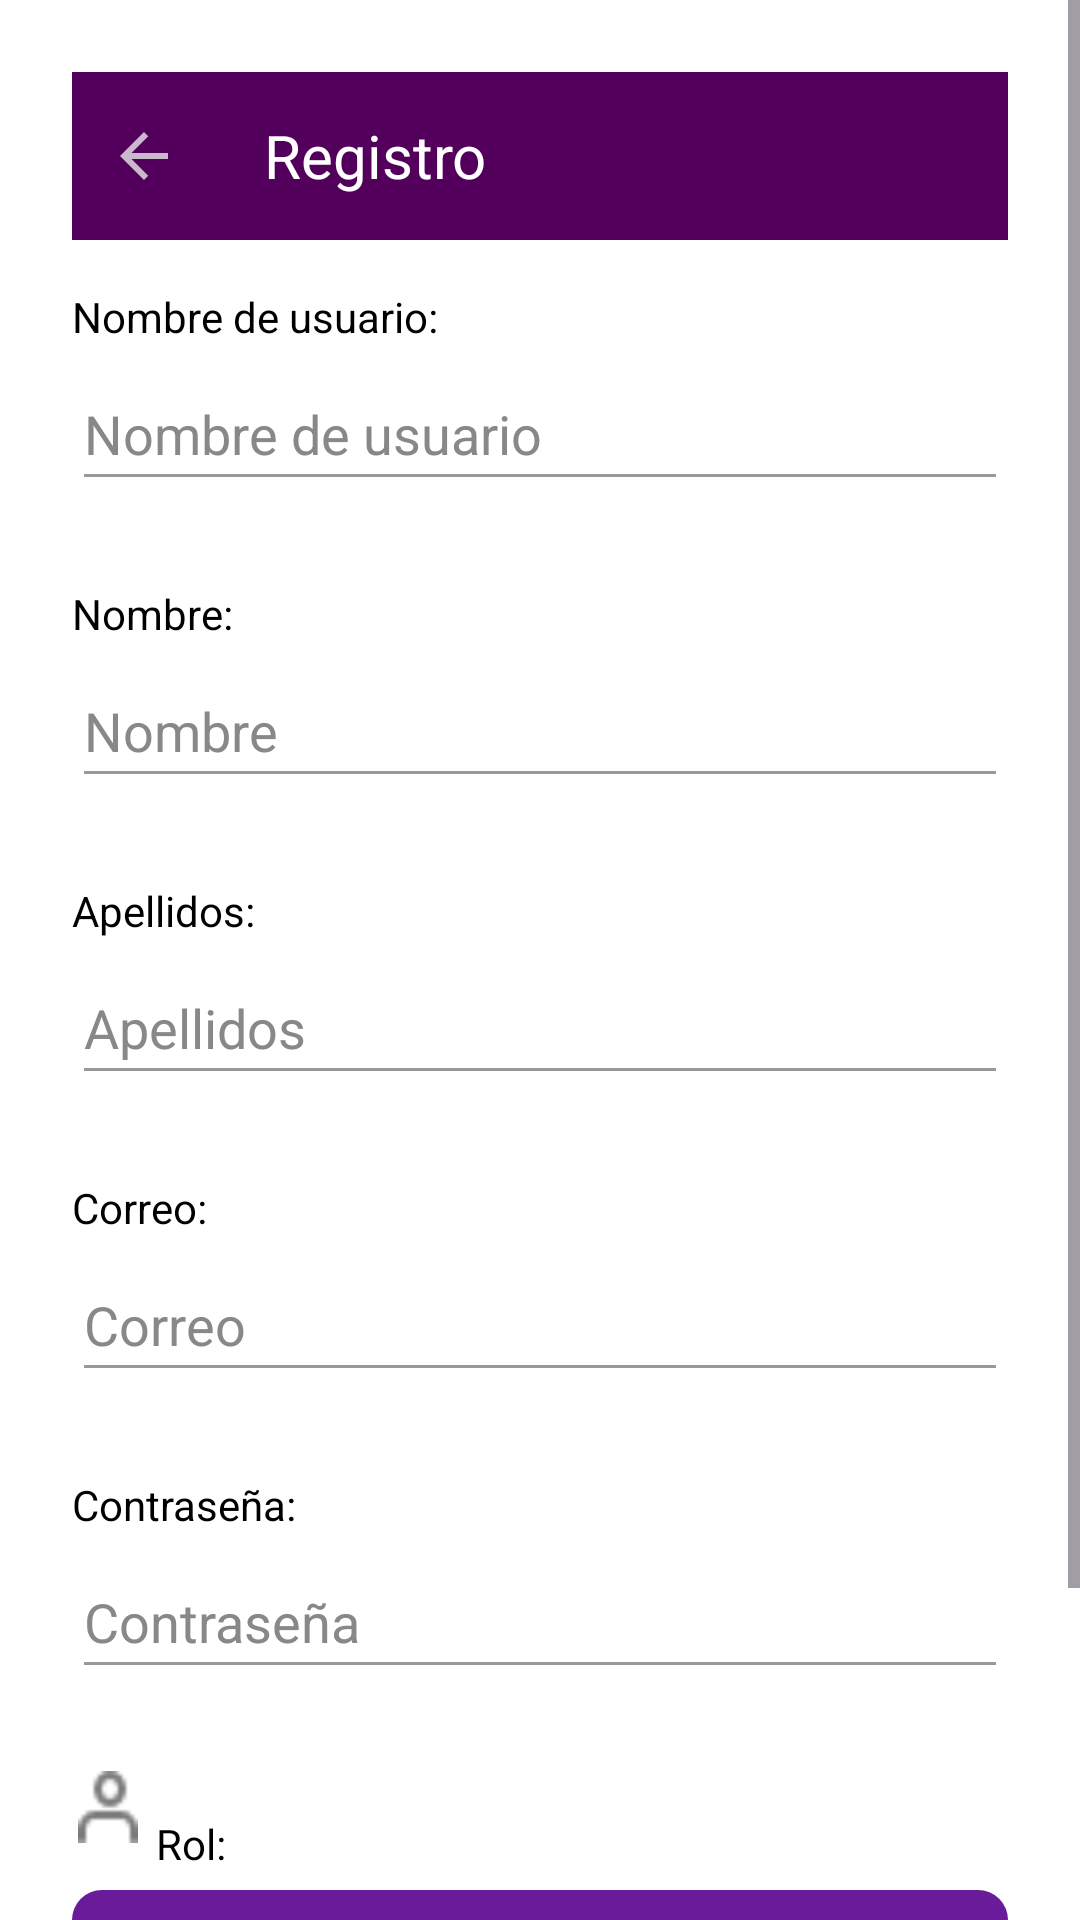

Named icons in this screenshot (1080px x 1920px) and their centers, point (x, y):
person: point (108, 1807)
Regresar: point (144, 156)
